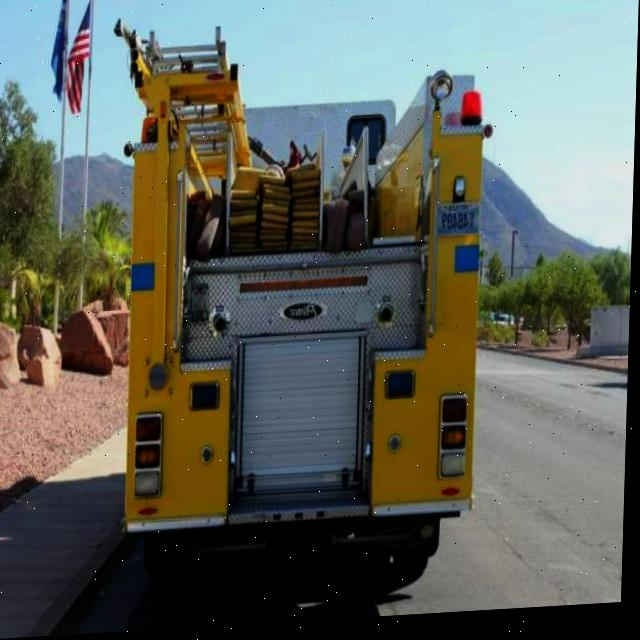emergency: (104, 2, 499, 601)
